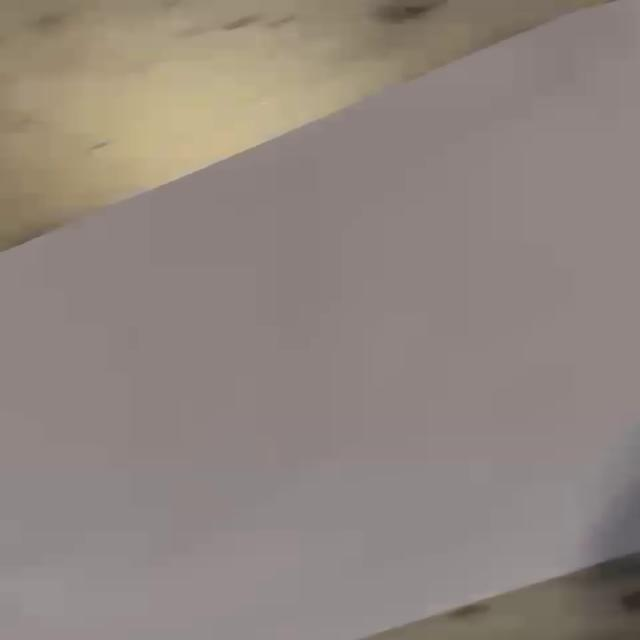road: (0, 0, 640, 640)
